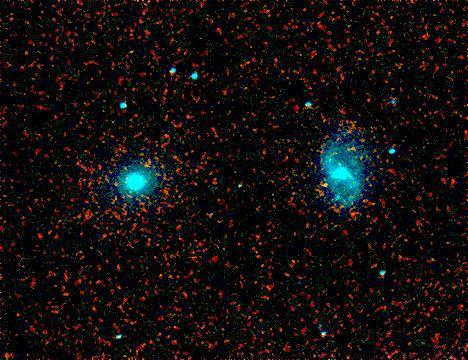star: (308, 169, 338, 199)
